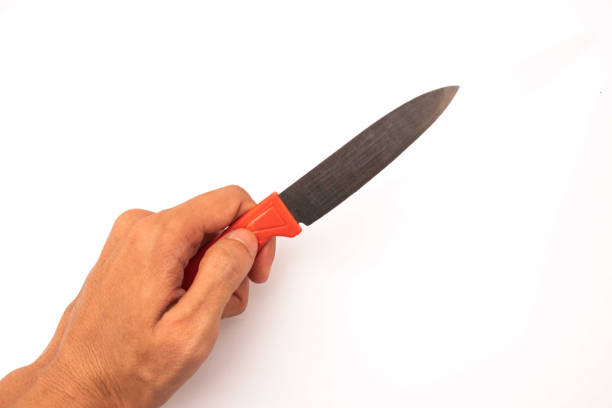knife: (180, 83, 462, 291)
